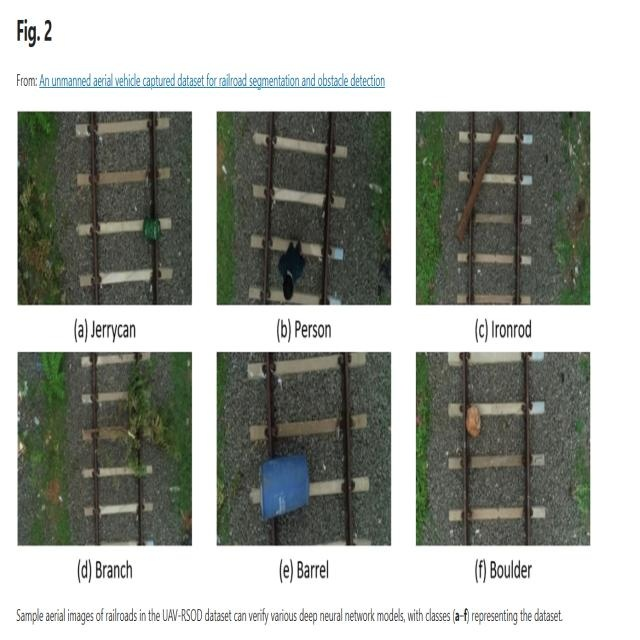obstacle: (452, 120, 509, 245), (256, 447, 323, 525), (263, 239, 319, 316), (122, 376, 170, 455), (128, 202, 174, 266), (459, 378, 485, 445)
